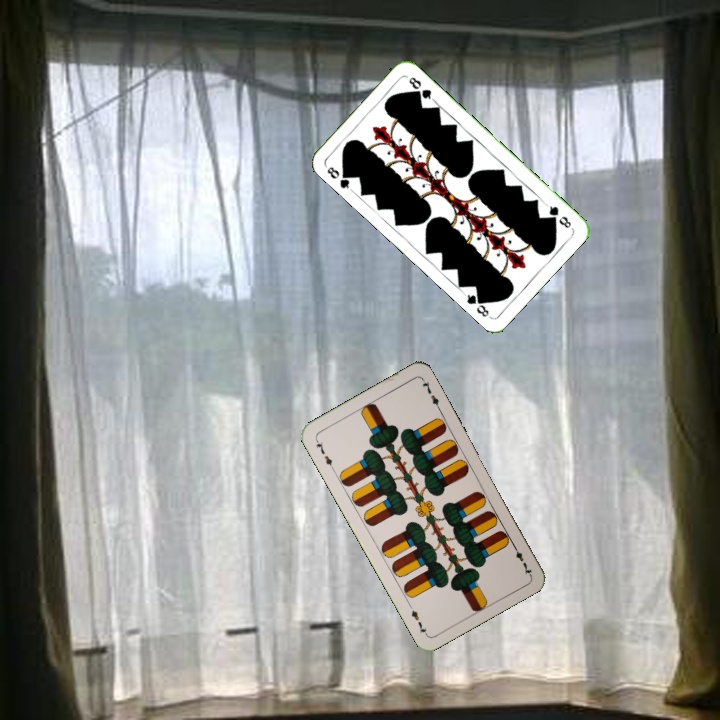E7: (311, 435, 336, 472), (509, 540, 534, 577)
G8: (542, 200, 574, 231), (323, 162, 354, 193)
